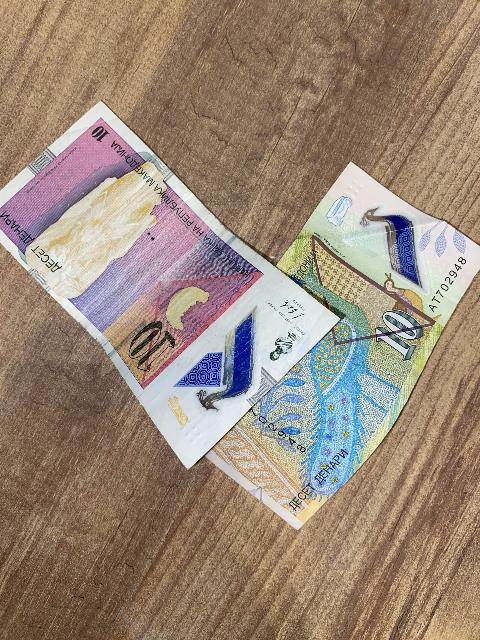note: (0, 112, 479, 525)
